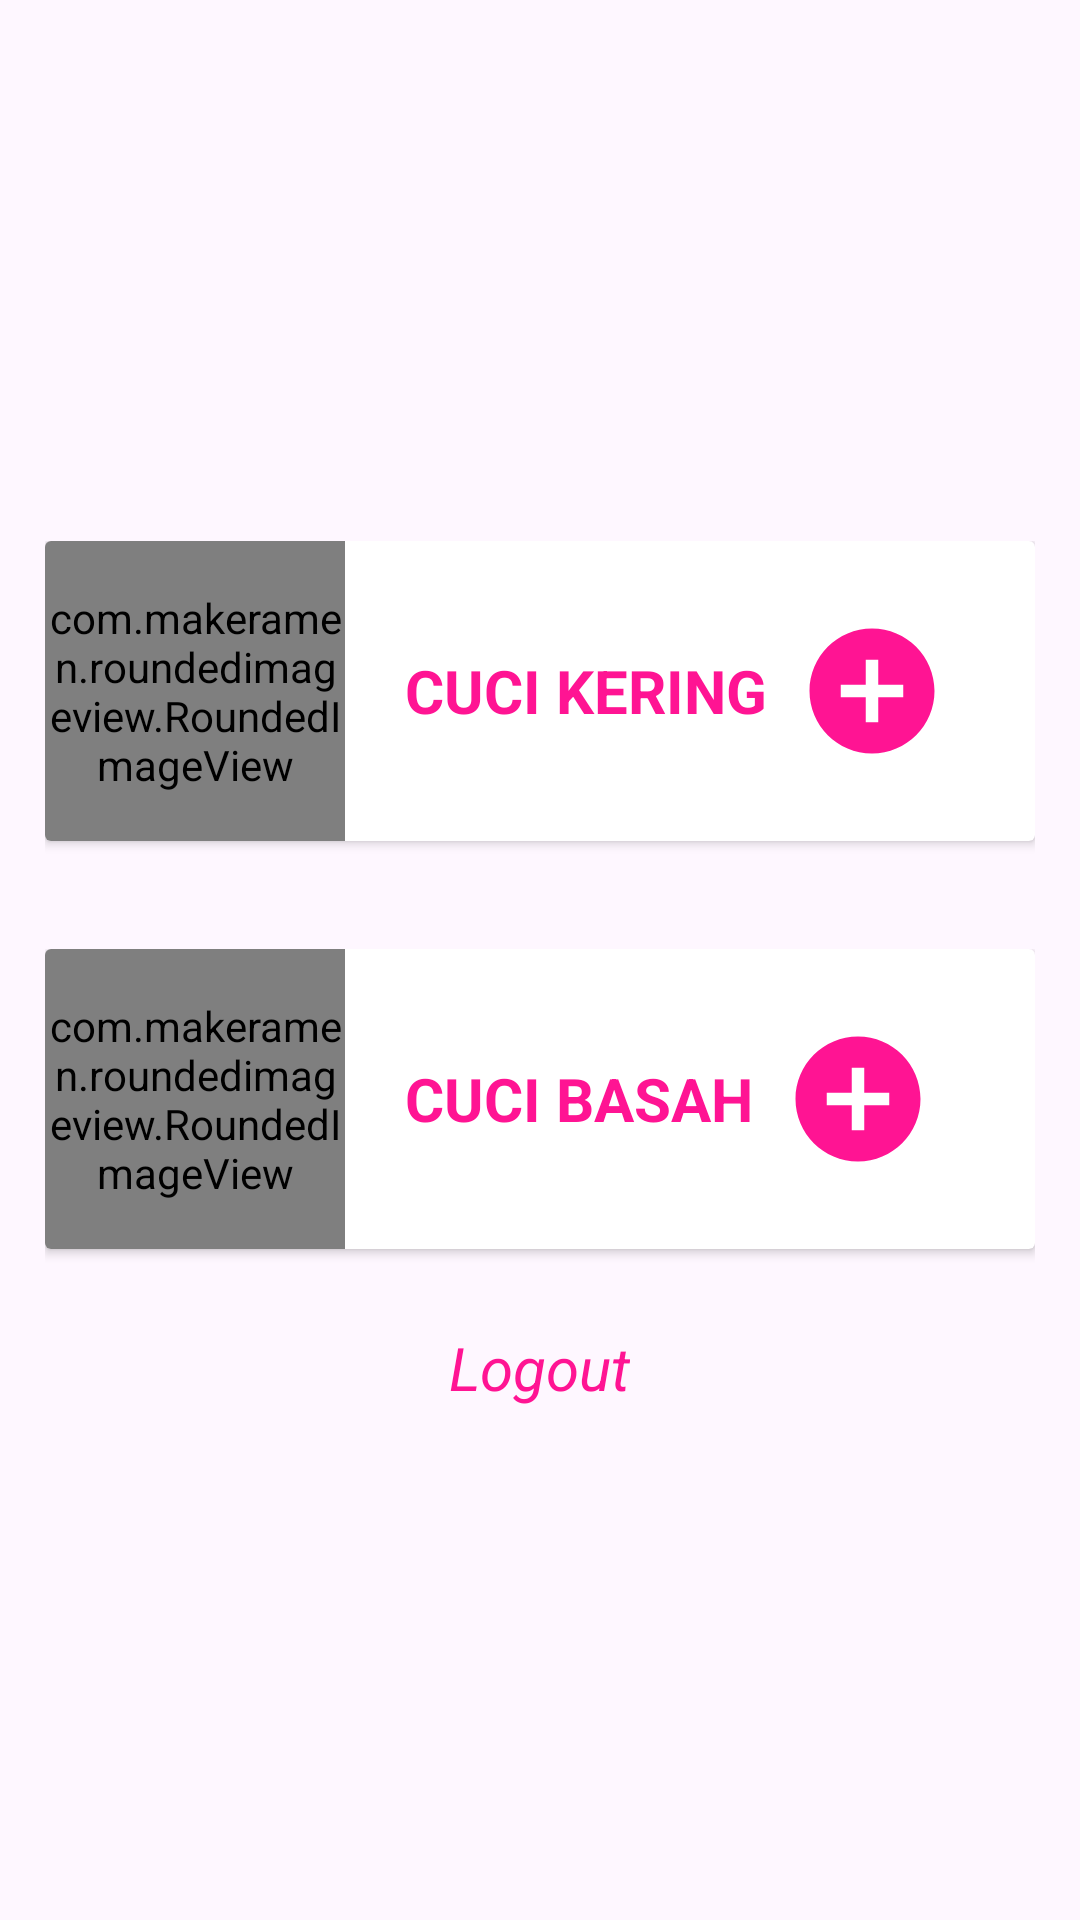

Screen size 1080*1920. Icon name, then its center in pixels as point (x, y):
add: point (872, 691), point (858, 1099)
